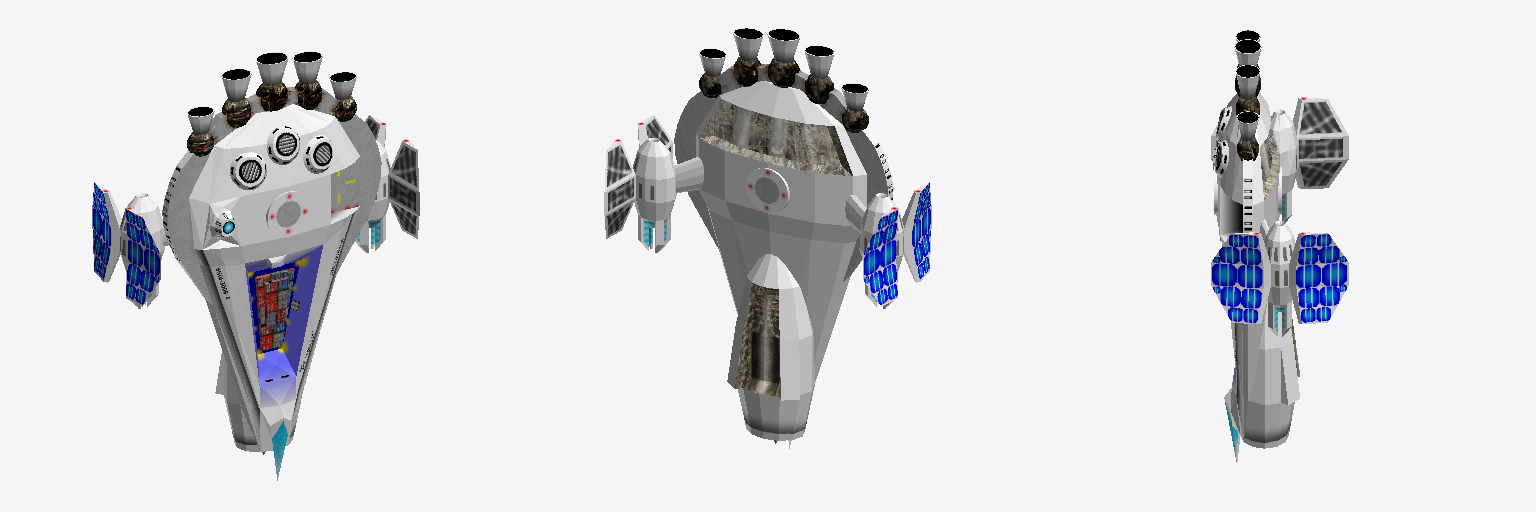
The picture shows the model from 3 angles: view 1: azimuth 30°, elevation 25°; view 2: azimuth 150°, elevation 25°; view 3: azimuth 270°, elevation 25°; orthographic projection.
Parts seen in each view (by area): view 1: Wombat.001_Wombat.000; view 2: Wombat.001_Wombat.000; view 3: Wombat.001_Wombat.000.
Part boxes in pixels (left/top/right/bottom): Wombat.001_Wombat.000: left=92, top=51, right=419, bottom=480; Wombat.001_Wombat.000: left=604, top=28, right=931, bottom=448; Wombat.001_Wombat.000: left=1211, top=30, right=1348, bottom=461.
Bounding box in the file's own units: 35.76 × 50.59 × 15.09.
Materials: 1 (1 with a texture image).